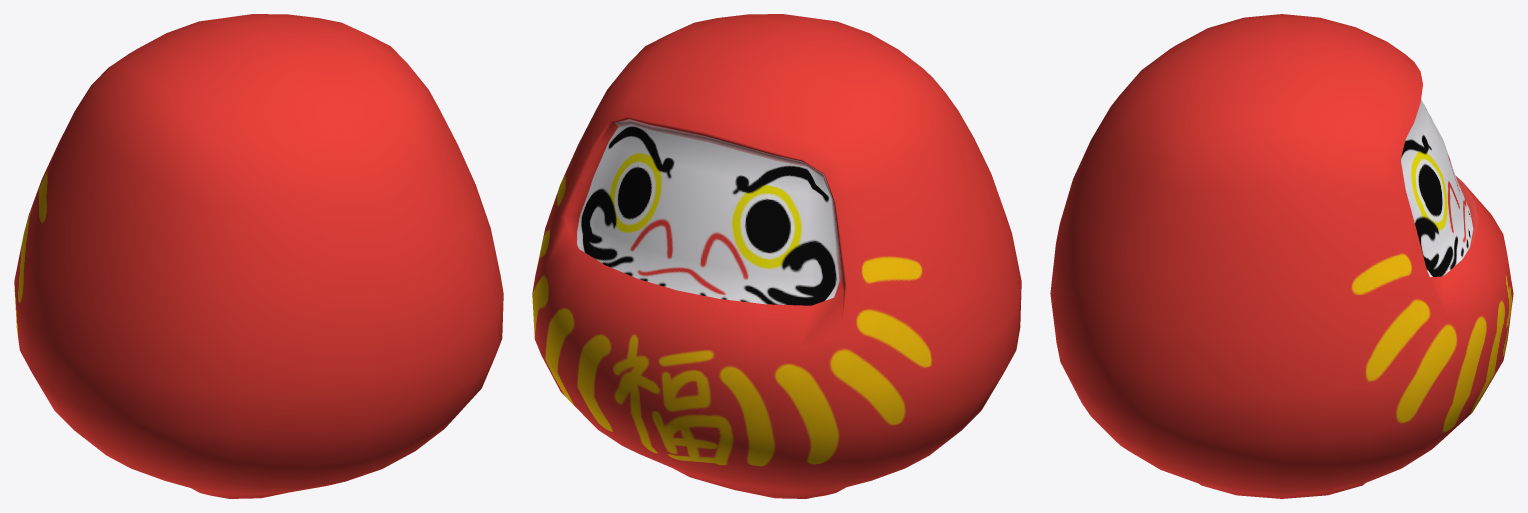
The model's file is daruma_doll.glb.
3 views of the same model, side by side, from view 1: azimuth 30°, elevation 25°; view 2: azimuth 150°, elevation 25°; view 3: azimuth 270°, elevation 25° (orthographic).
Visible parts, largest first — view 1: Object_2; view 2: Object_2; view 3: Object_2.
Boxes of the visible parts, <box> form: Object_2: <box>14,14,503,498</box>; Object_2: <box>532,14,1021,498</box>; Object_2: <box>1050,14,1513,498</box>.
Size of the model in its own units: 1.84 by 1.81 by 1.78.
1 material, 1 textured.
